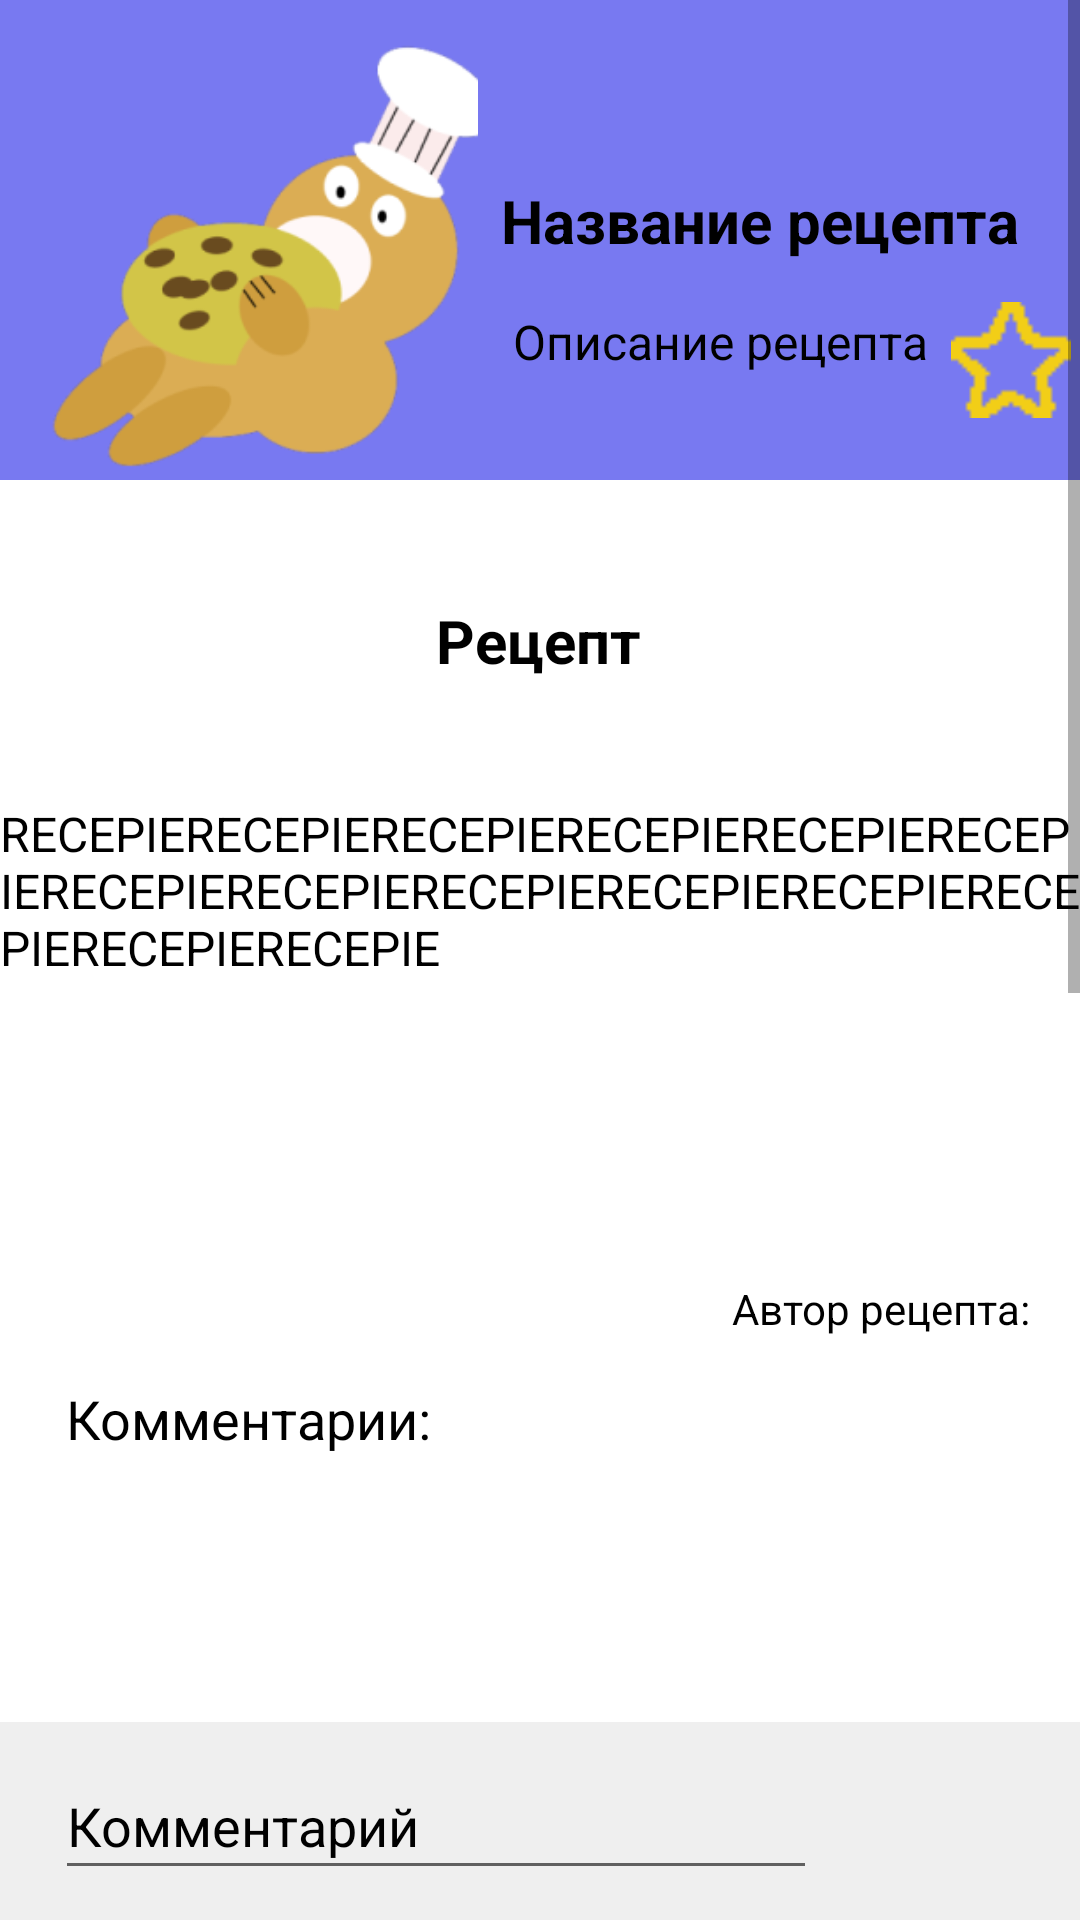

Icon bounding boxes for this 1080x1920 phone screenshot, format [x1=x1, y1=y1, x2=x2, y2=y2]:
favorites void star: [x1=951, y1=300, x2=1071, y2=420]
